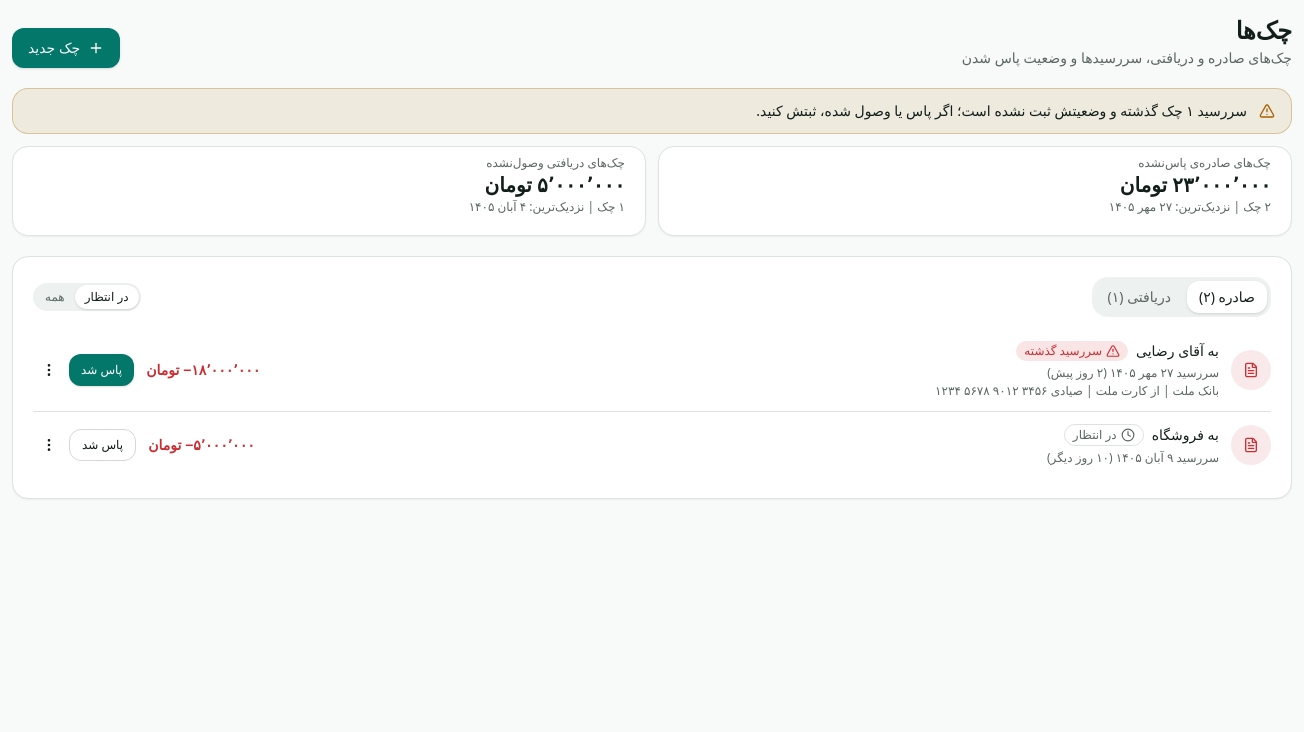
Test: ChequesPage › totals pending cheques, flags overdue ones and filters by direction and status
The width and height of the screenshot is (1304, 732).
Expected: the text "چک‌های صادره‌ی پاس‌نشده" is shown, [1138,154,1271,171]
Expected: the message shows "سررسید ۱ چک گذشته", [12,88,1292,134]
Click the radio button labelled "همه" at (55, 297), box [35,285,75,309]
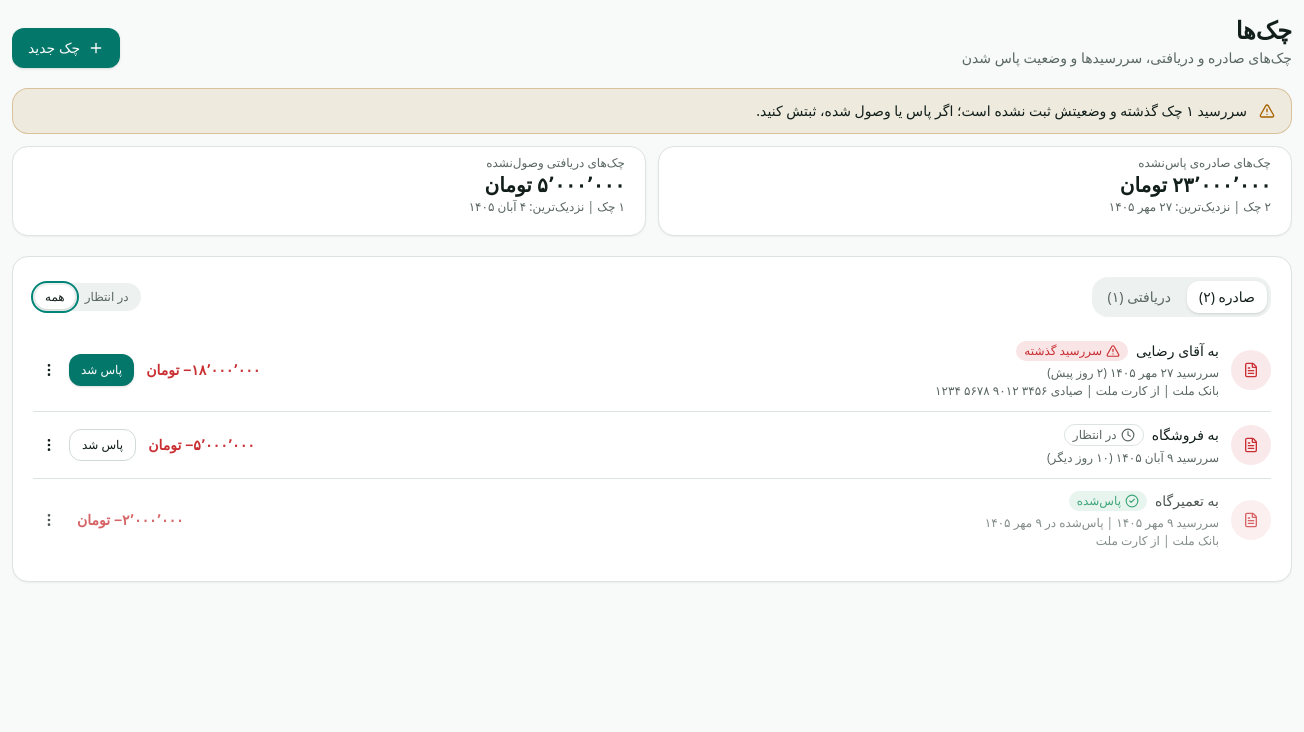
Expected: the number of list items is 3, [33,329,1271,412]; [33,412,1271,479]; [33,479,1271,561]
Expected: the list item that starts with "به تعمیرگاه" shows "پاس‌شده", [1077,492,1121,509]
Click the tab "دریافتی (۱)" at (1139, 297), box [1096,281,1183,313]
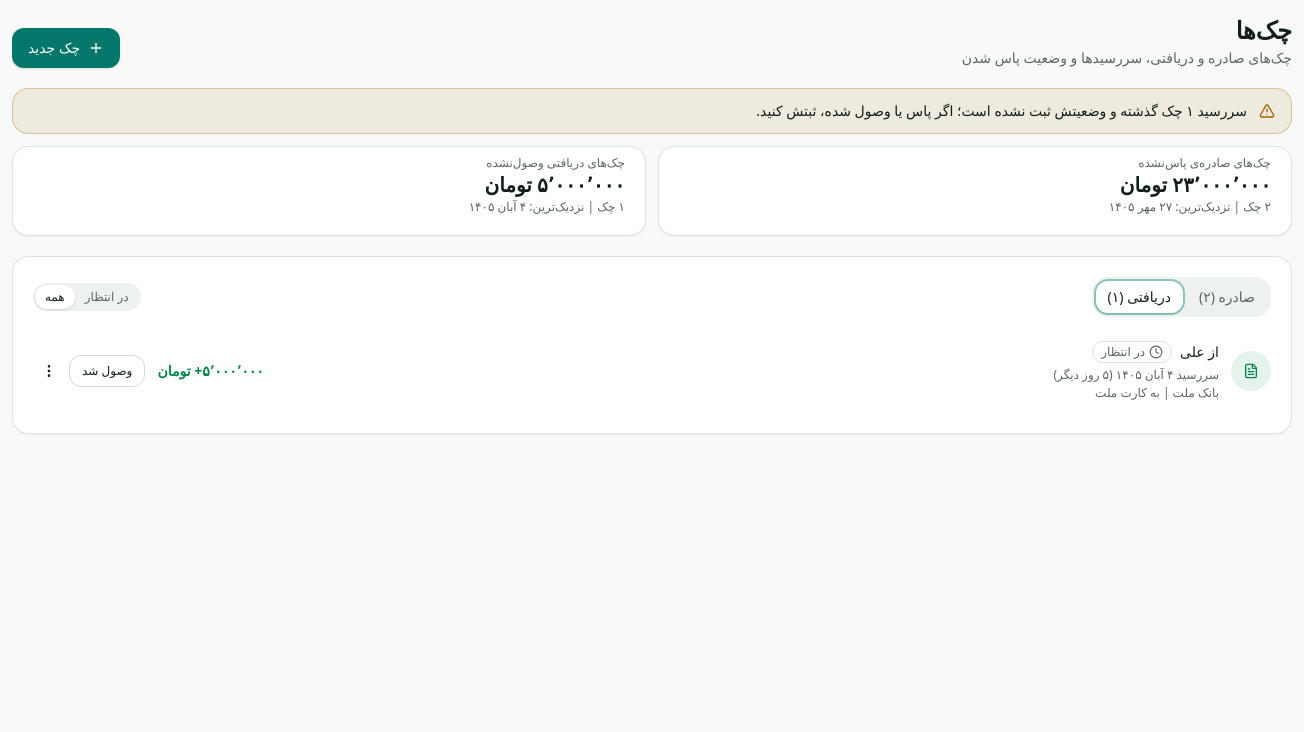
Expected: the number of list items is 1, [33,329,1271,413]
Expected: the list item shows "از علی", [1180,342,1219,361]
